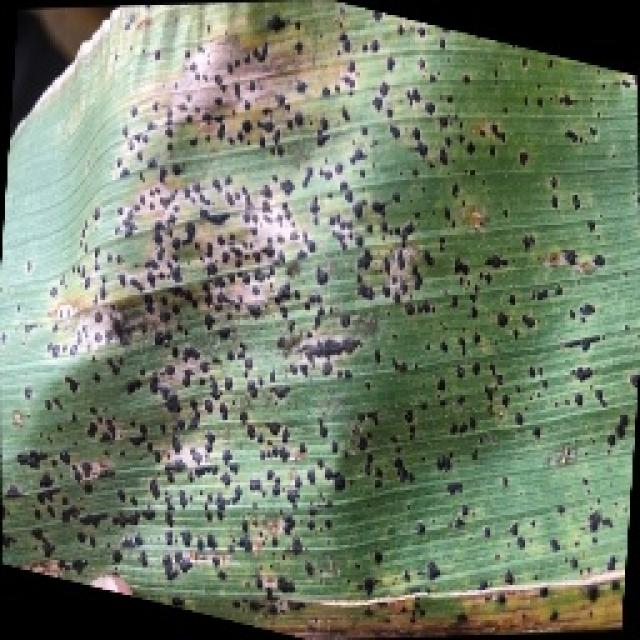Tar_Spot: (57, 72, 563, 586)
